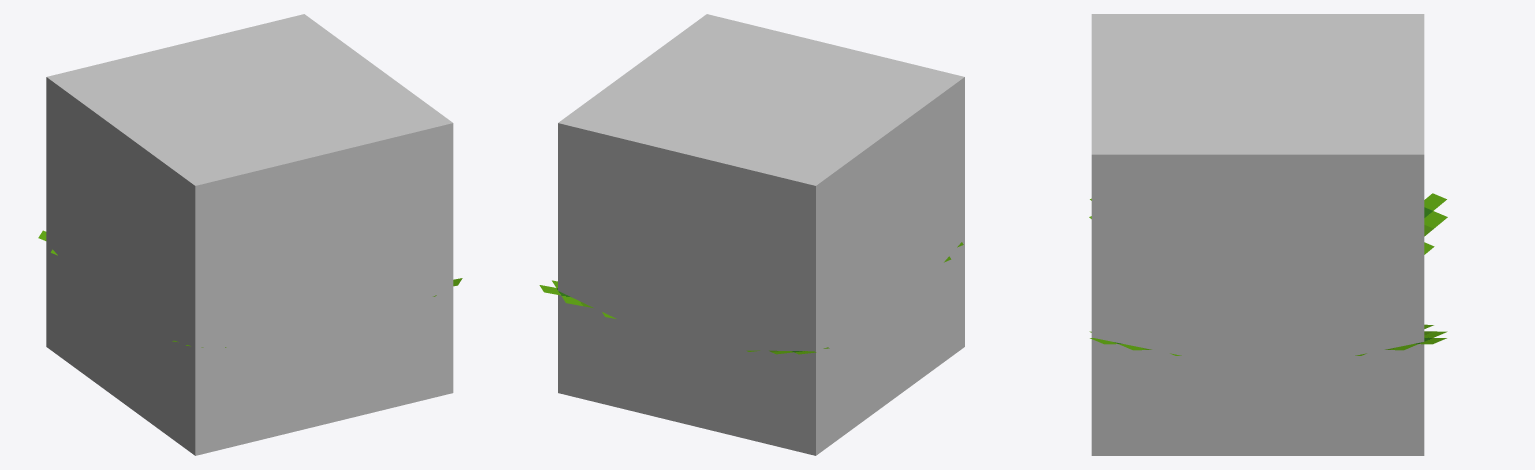
Rendered from snakefern.obj.
3 renders of one model, left to right at view 1: azimuth 30°, elevation 25°; view 2: azimuth 150°, elevation 25°; view 3: azimuth 270°, elevation 25°, orthographic. The views are drawn at different scales.
Visible parts, largest first — view 1: cube; view 2: cube; view 3: cube.
Part boxes in pixels (left/top/right/bottom): cube: left=38, top=14, right=462, bottom=455; cube: left=539, top=14, right=964, bottom=455; cube: left=1089, top=14, right=1447, bottom=455.
Size of the model in its own units: 1.52 by 1 by 1.52.
Materials: 2 (1 with a texture image).
